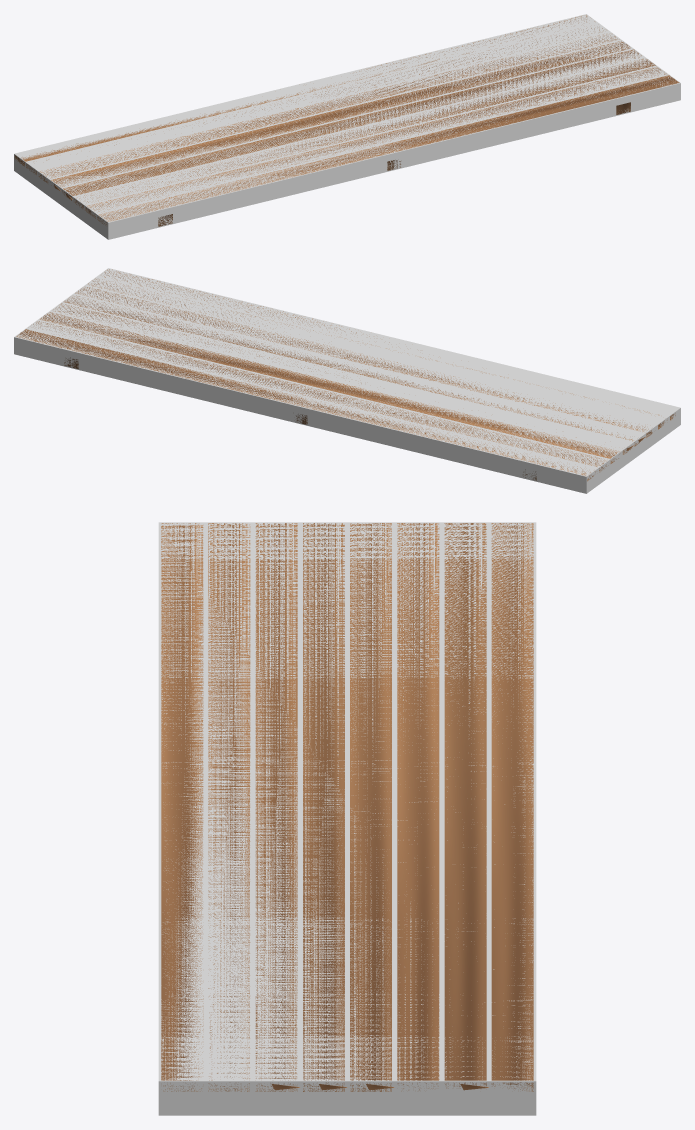
File: town_building_floor_bay_v01.fbx
3 renders of one model, top to bottom at view 1: azimuth 30°, elevation 25°; view 2: azimuth 150°, elevation 25°; view 3: azimuth 270°, elevation 25°, orthographic. The views are drawn at different scales.
Visible parts, largest first — view 1: COL_Deck, LOD0_Static; view 2: COL_Deck, LOD0_Static; view 3: LOD0_Static, COL_Deck.
Boxes of the visible parts, bbox=[...] form: COL_Deck: bbox=[14, 14, 680, 239]; LOD0_Static: bbox=[14, 15, 679, 226]; COL_Deck: bbox=[14, 268, 680, 493]; LOD0_Static: bbox=[16, 269, 675, 481]; LOD0_Static: bbox=[161, 523, 533, 1091]; COL_Deck: bbox=[158, 522, 536, 1115].
Bounding box in the file's own units: 3.51 × 0.1 × 1.
Materials: 2 (2 with a texture image).
